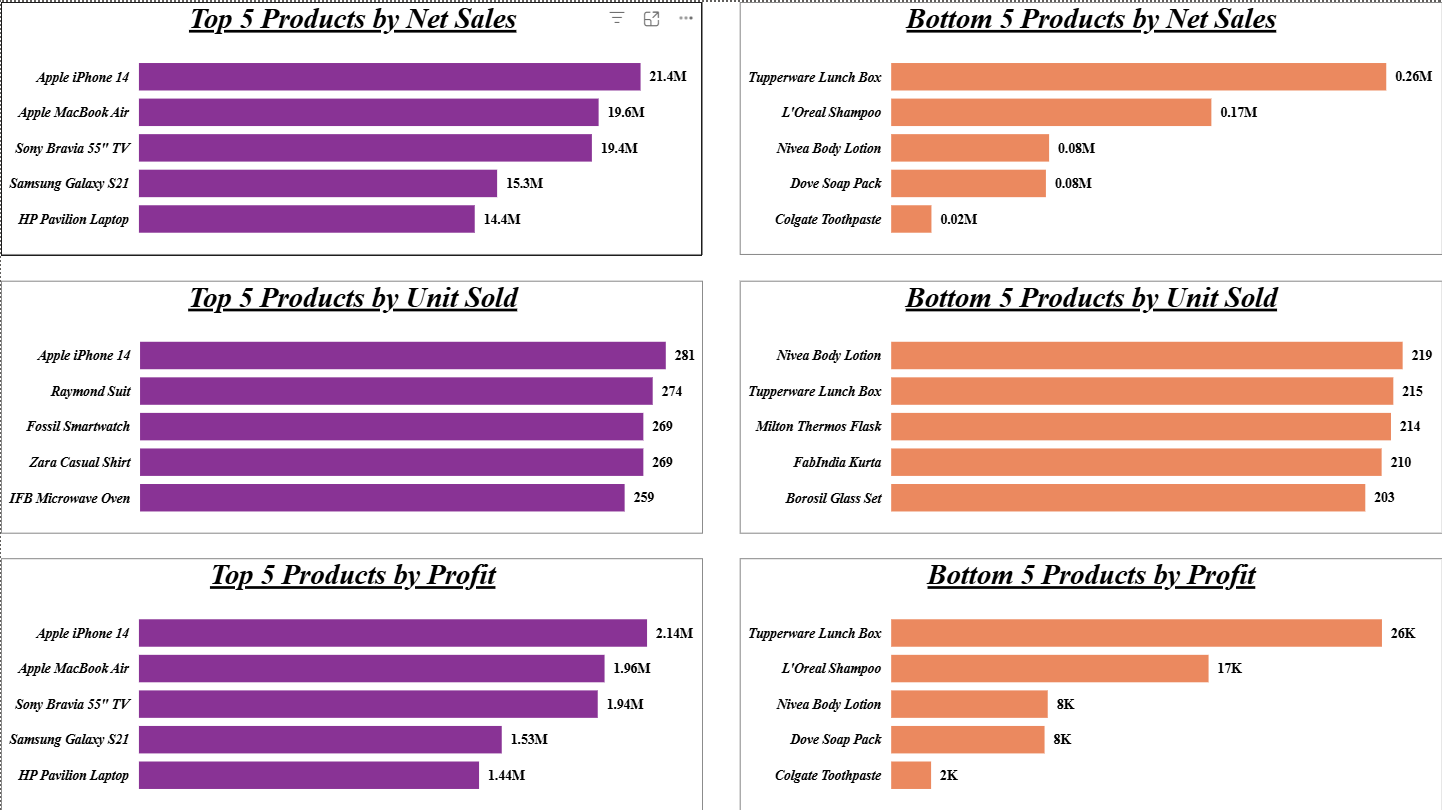

What the dashboard file says about the page in this screenshot:
{"tool":"powerbi","page":{"name":"Top/Bottom 5 Analysis","canvas":[1280,720],"ordinal":1},"visuals":[{"type":"barChart","title":"Top 5 Products by Net Sales","fields":{"Category":["Dim Product.Product Name"],"Y":["Sum(Fact Table.Net Sales)"]},"box":[0,0,623.6,225],"z":0},{"type":"barChart","title":"Bottom 5 Products by Net Sales","fields":{"Category":["Dim Product.Product Name"],"Y":["Sum(Fact Table.Net Sales)"]},"box":[656.9,0,623.6,225],"z":1000},{"type":"barChart","title":"Top 5 Products by Unit Sold","fields":{"Category":["Dim Product.Product Name"],"Y":["Sum(Fact Table.Units Sold)"]},"box":[0,247.2,623.6,225],"z":2000},{"type":"barChart","title":"Bottom 5 Products by Unit Sold","fields":{"Category":["Dim Product.Product Name"],"Y":["Sum(Fact Table.Units Sold)"]},"box":[656.9,247.2,623.6,225],"z":3000},{"type":"barChart","title":"Top 5 Products by Profit","fields":{"Category":["Dim Product.Product Name"],"Y":["Sum(Fact Table.Profit)"]},"box":[0,494.4,623.6,225],"z":4000},{"type":"barChart","title":"Bottom 5 Products by Profit","fields":{"Category":["Dim Product.Product Name"],"Y":["Sum(Fact Table.Profit)"]},"box":[656.9,494.4,623.6,225],"z":5000}]}

Visuals, with their boxes in screenshot pixels (x1, y1, x2, y2), scaled from the page's 1280x720 canvas onto the 1442x810 screenshot:
"Top 5 Products by Net Sales" barChart: (0, 0, 703, 253)
"Bottom 5 Products by Net Sales" barChart: (740, 0, 1441, 253)
"Top 5 Products by Unit Sold" barChart: (0, 278, 703, 531)
"Bottom 5 Products by Unit Sold" barChart: (740, 278, 1441, 531)
"Top 5 Products by Profit" barChart: (0, 556, 703, 809)
"Bottom 5 Products by Profit" barChart: (740, 556, 1441, 809)
